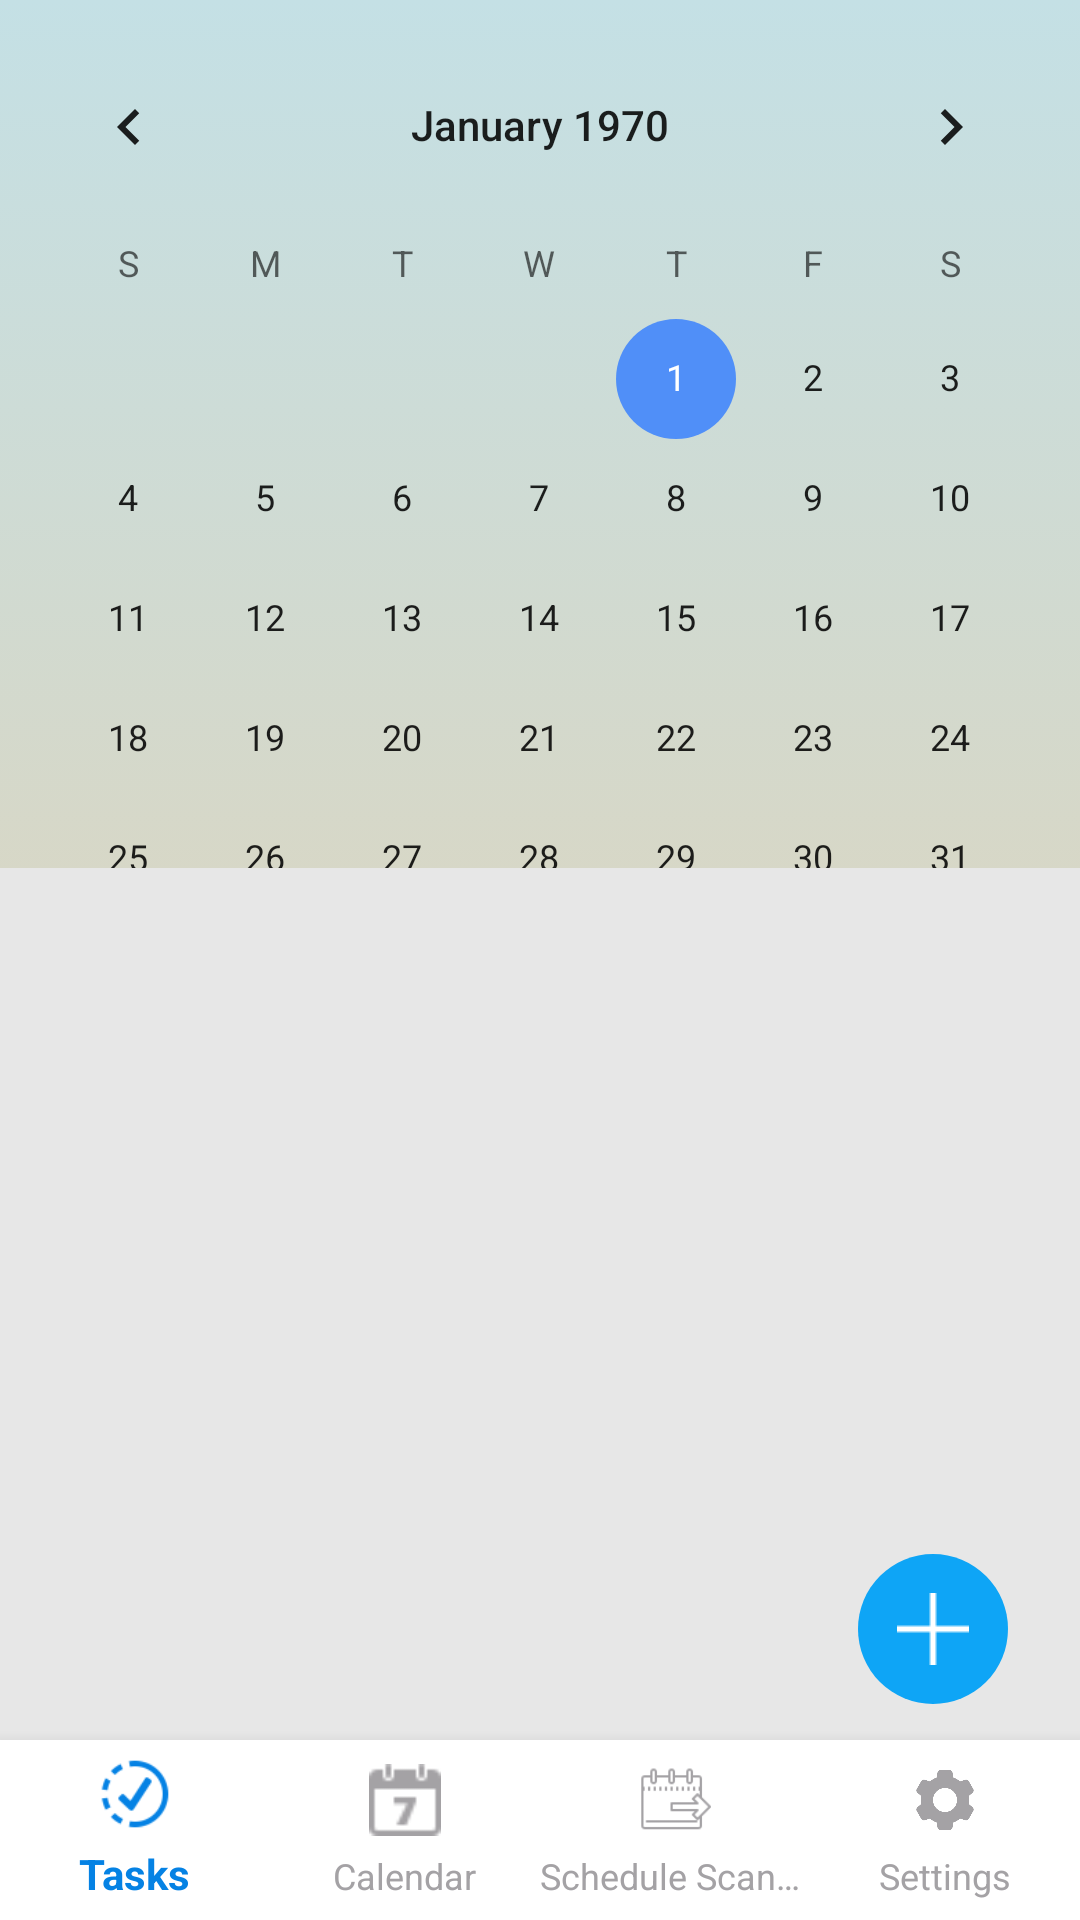

Where to tap for icons on this 1080w x 1920h app screen, as (x=x, y=y):
plus: (x=933, y=1629)
